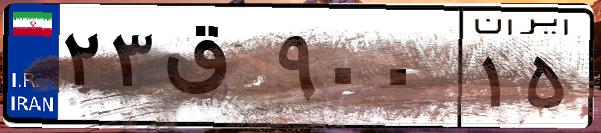0: (385, 28, 445, 110), (330, 28, 385, 110)
1: (475, 38, 525, 113)
2: (57, 26, 110, 100)
3: (110, 28, 158, 98)
5: (525, 38, 570, 115)
9: (270, 28, 330, 110)
ق: (158, 20, 270, 120)
